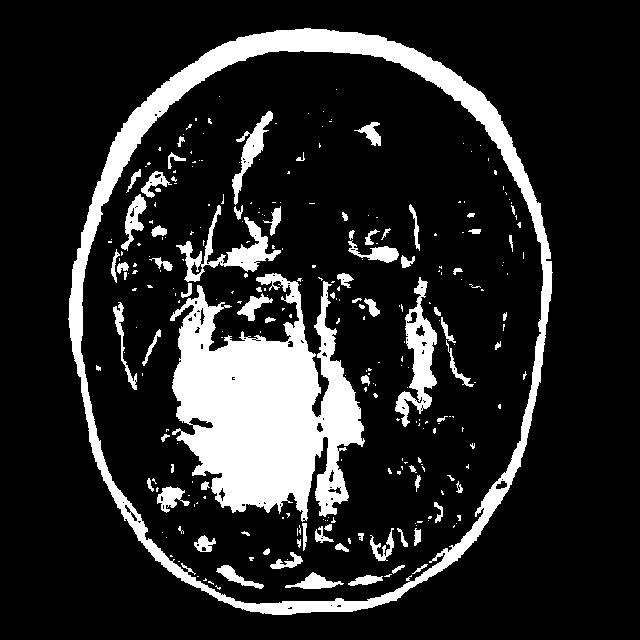Brain-Tumor: (172, 324, 330, 520)
